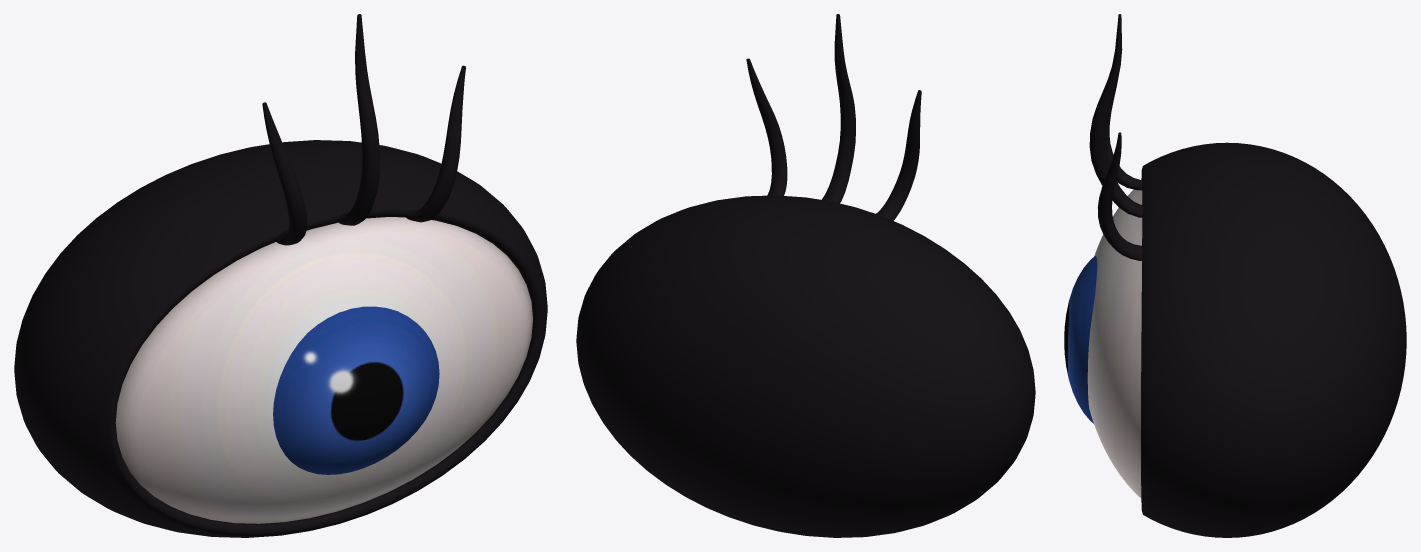
File: eye.fbx
3 renders of one model, left to right at view 1: azimuth 30°, elevation 25°; view 2: azimuth 150°, elevation 25°; view 3: azimuth 270°, elevation 25°, orthographic. The views are drawn at different scales.
Parts seen in each view (by area): view 1: node_id30; view 2: node_id30; view 3: node_id30.
Boxes of the visible parts, x1=… form: node_id30: x1=14, y1=14, x2=547, y2=537; node_id30: x1=576, y1=14, x2=1035, y2=537; node_id30: x1=1064, y1=14, x2=1406, y2=537.
Size of the model in its own units: 0.4955 by 0.512 by 0.3195.
1 material, 1 textured.
